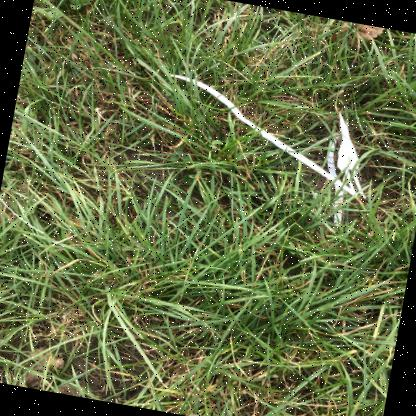Plastic utensils: (170, 74, 356, 195), (337, 112, 365, 198), (327, 134, 343, 226)
